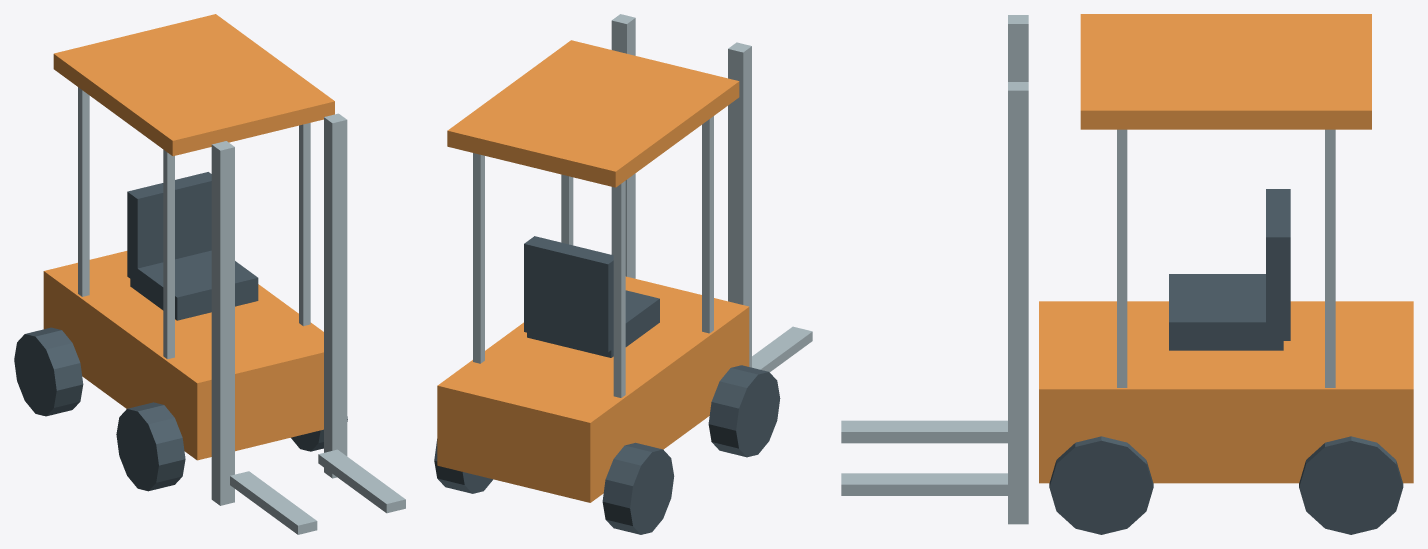
File: counterbalance-forklift.glb
3 renders of one model, left to right at view 1: azimuth 30°, elevation 25°; view 2: azimuth 150°, elevation 25°; view 3: azimuth 270°, elevation 25°, orthographic. The views are drawn at different scales.
Parts seen in each view (by area): view 1: orange, steel, dark; view 2: orange, dark, steel; view 3: orange, dark, steel.
Part boxes in pixels (x1,y1,x2,y2): orange: (43, 14, 334, 460); steel: (78, 87, 405, 534); dark: (14, 172, 347, 491); orange: (437, 40, 749, 502); dark: (434, 236, 780, 534); steel: (473, 14, 812, 397); orange: (1039, 14, 1413, 483); dark: (1049, 189, 1403, 534); steel: (841, 15, 1335, 524).
Size of the model in its own units: 1.28 by 2.3 by 2.75.
